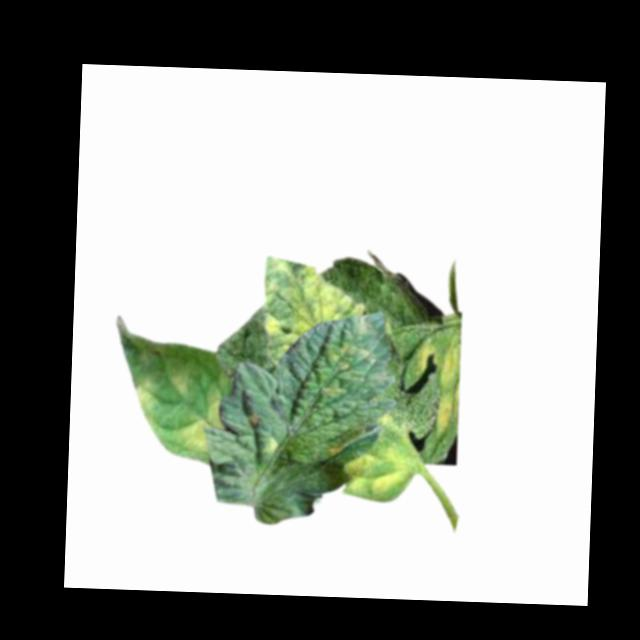Leaf_Mold: (261, 255, 370, 365), (340, 442, 416, 505), (176, 395, 228, 454), (323, 342, 374, 378), (132, 379, 161, 427), (438, 343, 462, 392), (432, 391, 458, 434), (167, 365, 193, 395), (417, 342, 439, 376), (317, 381, 348, 403), (262, 434, 281, 457), (324, 439, 344, 459)
